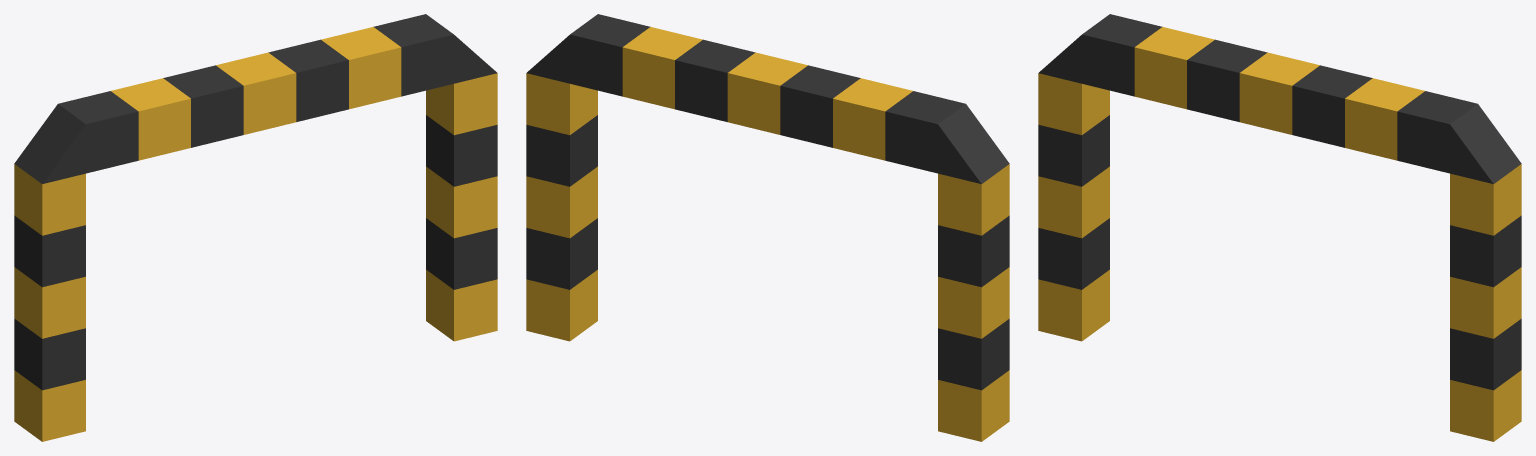
Rendered from Metal_rod_fence.fbx.
The picture shows the model from 3 angles, left to right: view 1: azimuth 30°, elevation 25°; view 2: azimuth 150°, elevation 25°; view 3: azimuth 330°, elevation 25°; orthographic projection.
Parts seen in each view (by area): view 1: Metal_rod_fence; view 2: Metal_rod_fence; view 3: Metal_rod_fence.
Boxes of the visible parts, left/top/right/bottom form: Metal_rod_fence: left=14, top=14, right=497, bottom=441; Metal_rod_fence: left=526, top=14, right=1009, bottom=441; Metal_rod_fence: left=1038, top=14, right=1521, bottom=441.
Bounding box in the file's own units: 1.88 × 1.21 × 0.1998.
